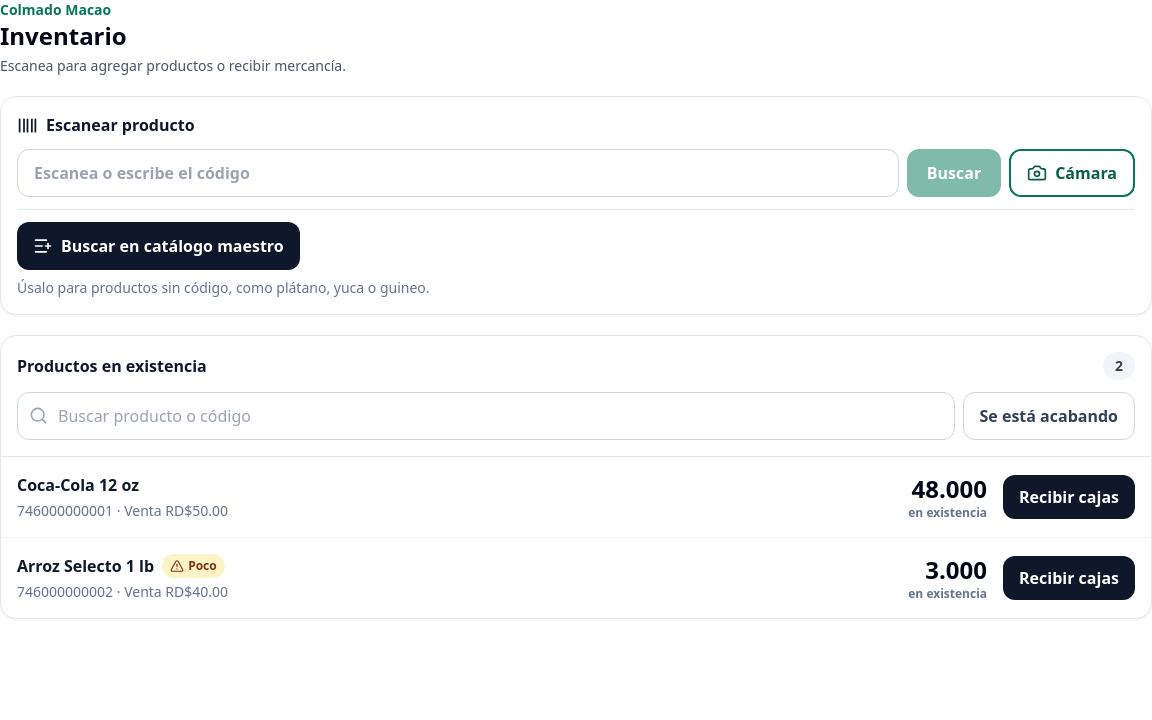
Test: InventoryPanel › finds a catalog product and saves its first inventory count
Expected: the heading "Coca-Cola 12 oz" is shown, x1=17 y1=474 x2=139 y2=496
Type "746000000003" into the field named "Código de barra". click: [458, 173]
box: x1=17 y1=149 x2=899 y2=197
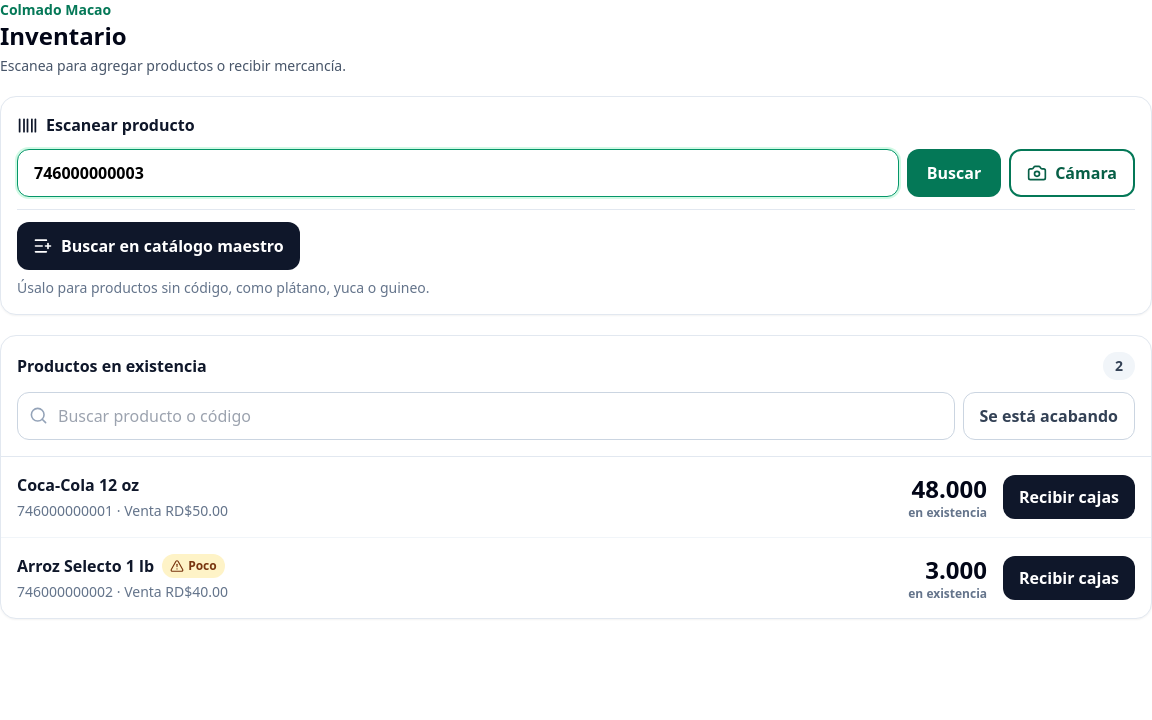
Click the button "Buscar". click: [954, 173]
box: x1=907 y1=149 x2=1001 y2=197
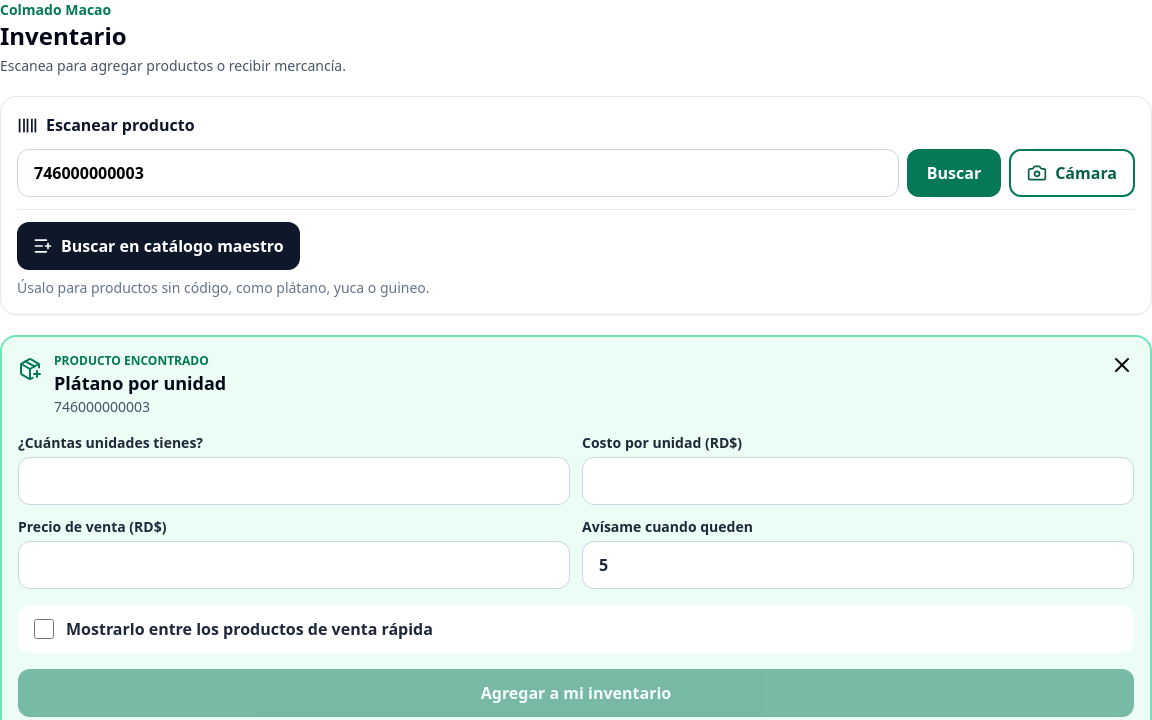
Result: the text "Plátano por unidad" is shown at x1=54 y1=371 x2=226 y2=395
Type "30" into the number field labelled "¿Cuántas unidades tienes?". click: [294, 481]
box: x1=18 y1=457 x2=570 y2=505
Type "8" into the number field labelled "Costo por unidad (RD$)". click: [858, 481]
box: x1=582 y1=457 x2=1134 y2=505
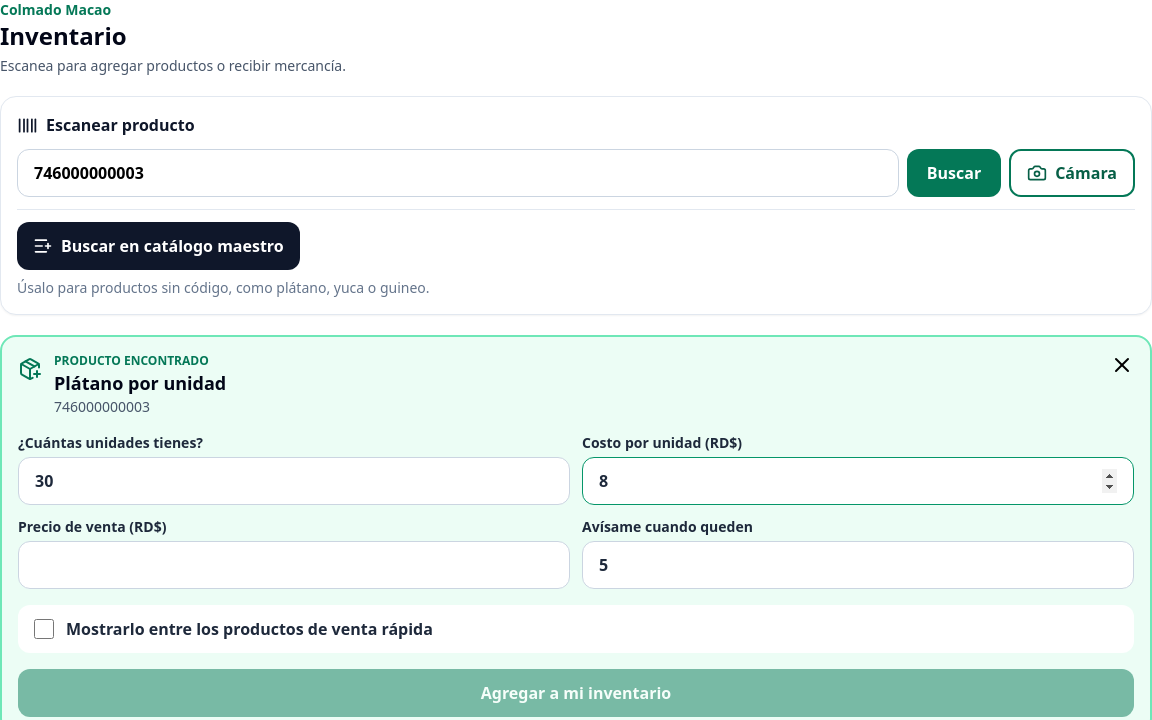
Type "12" into the number field labelled "Precio de venta (RD$)". click: [294, 565]
box: x1=18 y1=541 x2=570 y2=589
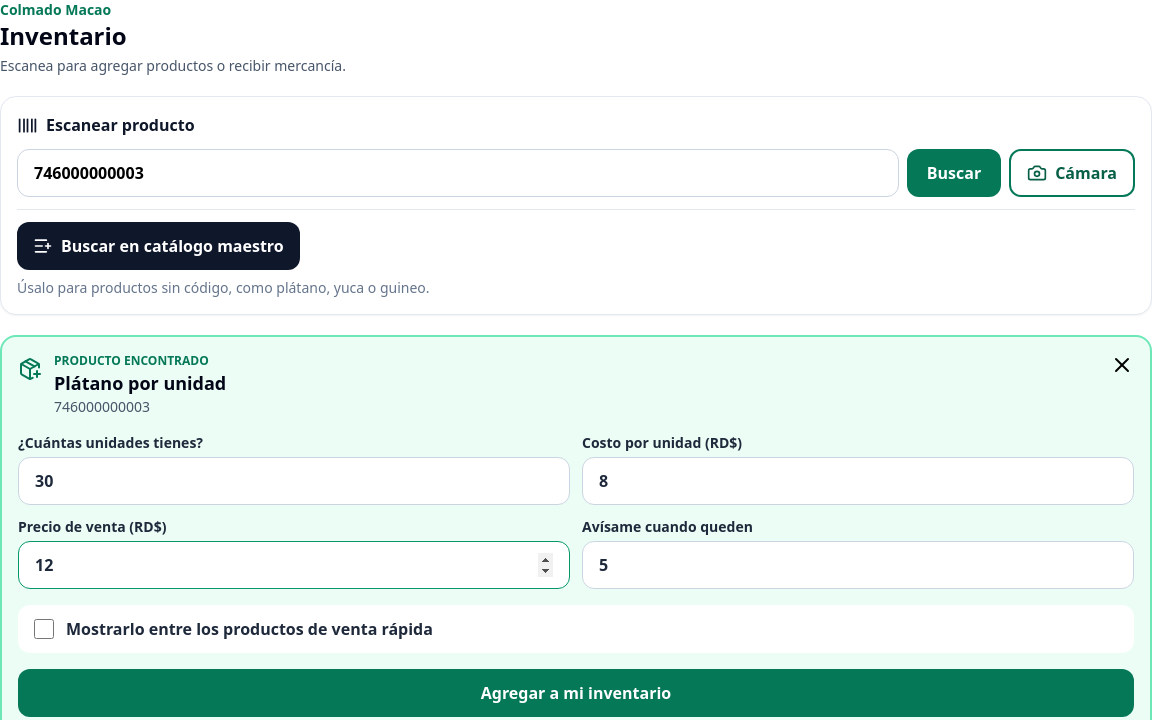
Replace the text in the number field labelled "Avísame cuando queden" with "10". click: [858, 565]
box: x1=582 y1=541 x2=1134 y2=589
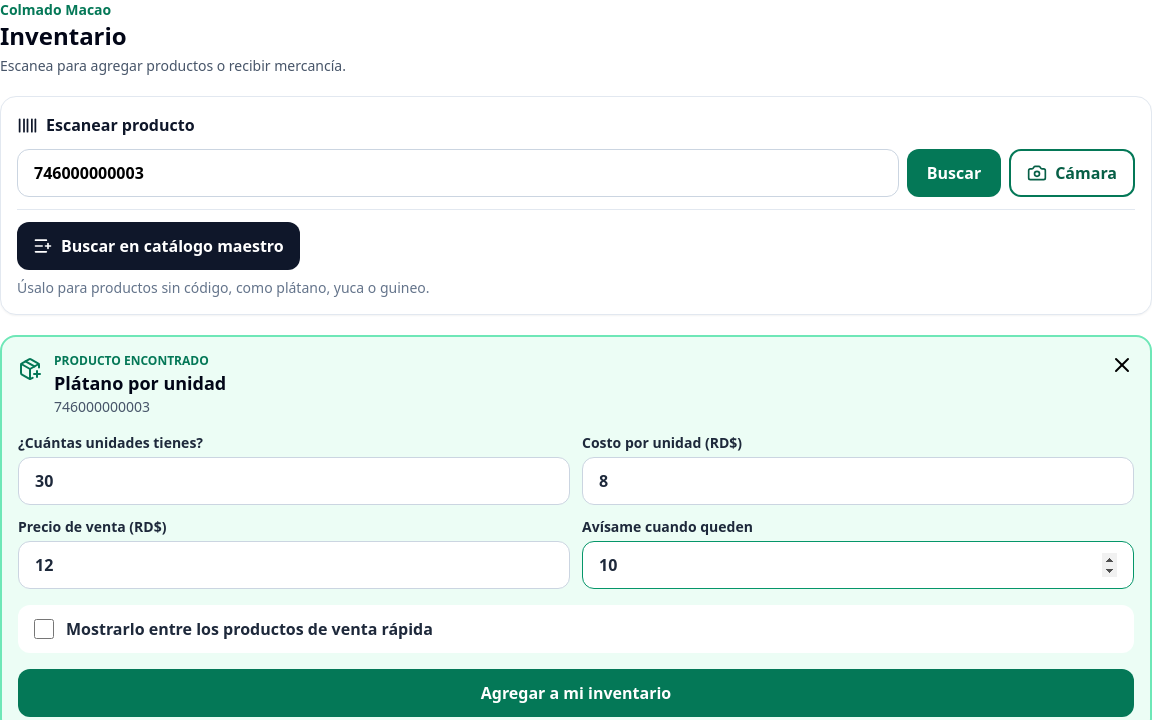
Click the button "Agregar a mi inventario". click: [576, 693]
box: x1=18 y1=669 x2=1134 y2=717
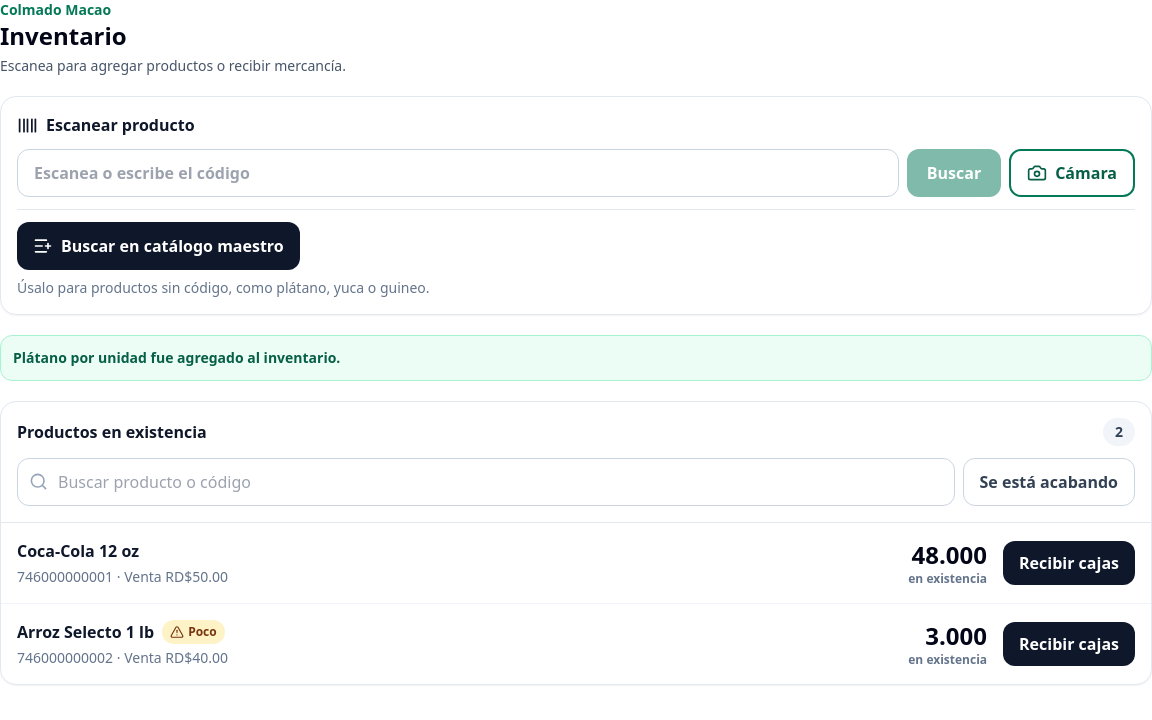
Result: the text "Plátano por unidad fue agregado al inventario." is shown at x1=13 y1=348 x2=340 y2=367
